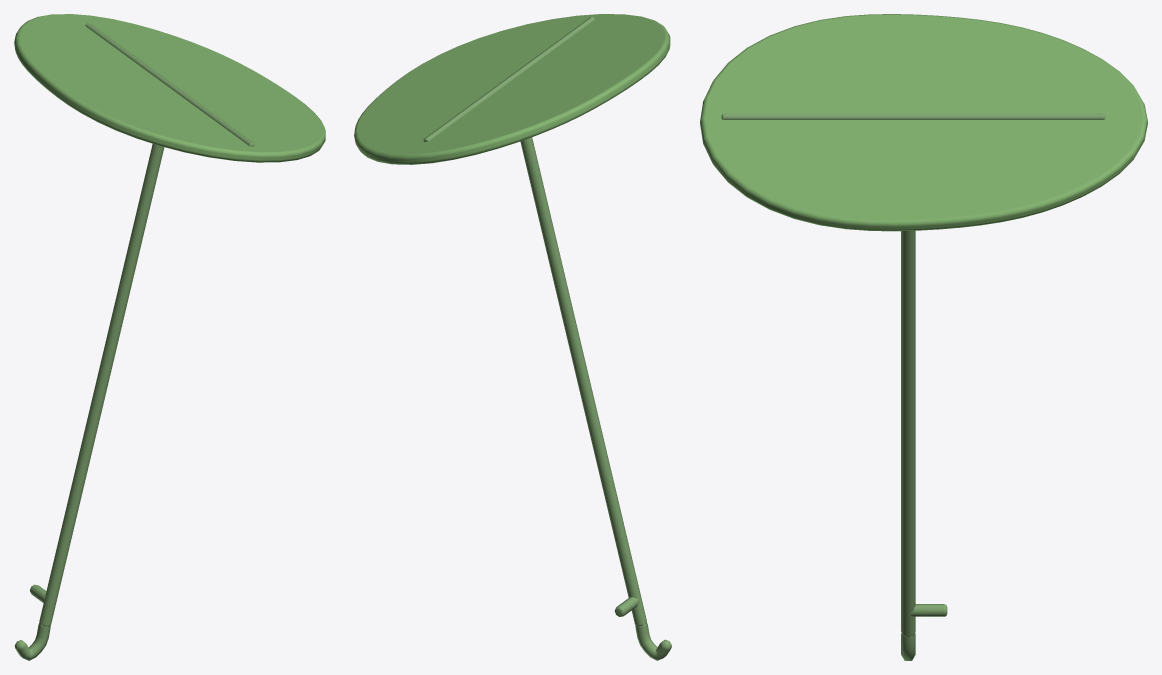
Rendered from leaf_umbrella.glb.
3 renders of one model, left to right at view 1: azimuth 30°, elevation 25°; view 2: azimuth 150°, elevation 25°; view 3: azimuth 270°, elevation 25°, orthographic. The views are drawn at different scales.
Visible parts, largest first — view 1: leaf_umbrella_ArmR; view 2: leaf_umbrella_ArmR; view 3: leaf_umbrella_ArmR.
Part boxes in pixels (<box>): leaf_umbrella_ArmR: <box>14,14,325,660</box>; leaf_umbrella_ArmR: <box>354,14,671,660</box>; leaf_umbrella_ArmR: <box>700,14,1147,660</box>.
Size of the model in its own units: 0.7095 by 1.41 by 0.8639.
